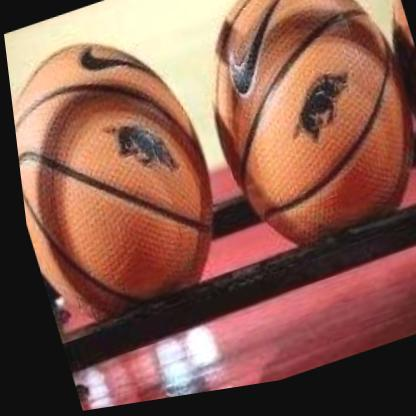basketball: (3, 4, 242, 353), (168, 0, 416, 302)
